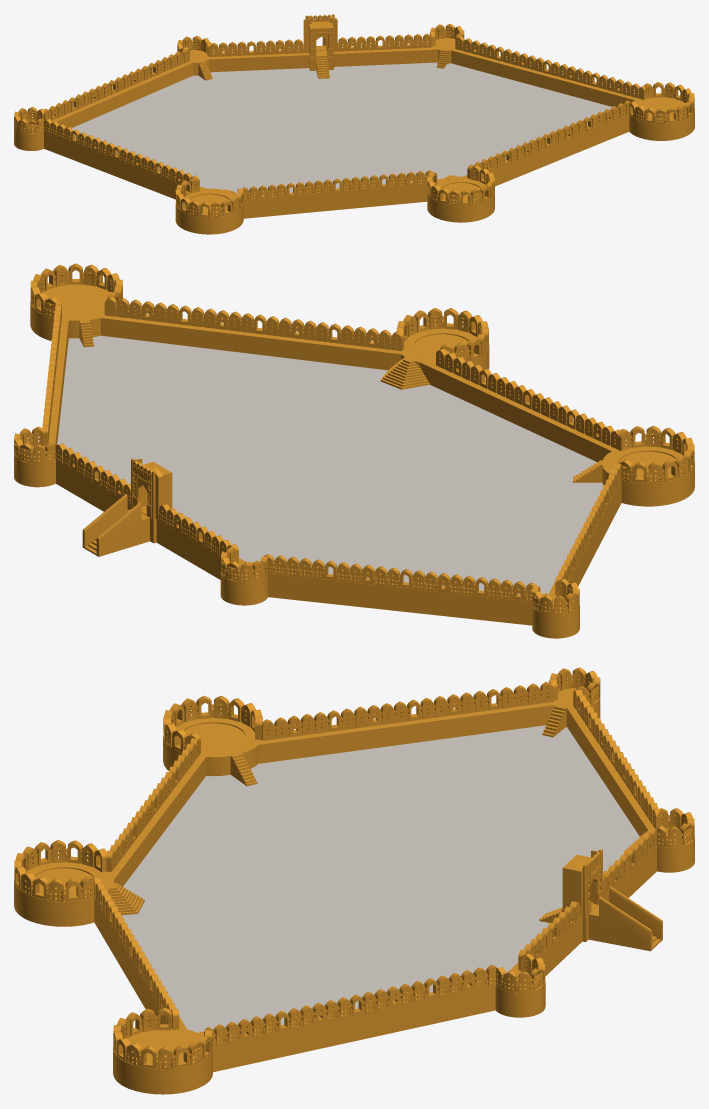
File: fortwall.glb
3 renders of one model, top to bottom at view 1: azimuth 30°, elevation 25°; view 2: azimuth 150°, elevation 25°; view 3: azimuth 270°, elevation 25°, orthographic. The views are drawn at different scales.
Visible parts, largest first — view 1: Cube.162, Cube.004; view 2: Cube.162, Cube.004; view 3: Cube.162, Cube.004.
Part boxes in pixels (bbox=[...]): Cube.162: bbox=[72, 62, 611, 195]; Cube.004: bbox=[14, 14, 694, 234]; Cube.162: bbox=[57, 335, 603, 594]; Cube.004: bbox=[14, 263, 694, 638]; Cube.162: bbox=[121, 725, 640, 1032]; Cube.004: bbox=[14, 667, 694, 1094].
Size of the model in its own units: 27.09 by 2.5 by 20.32.
